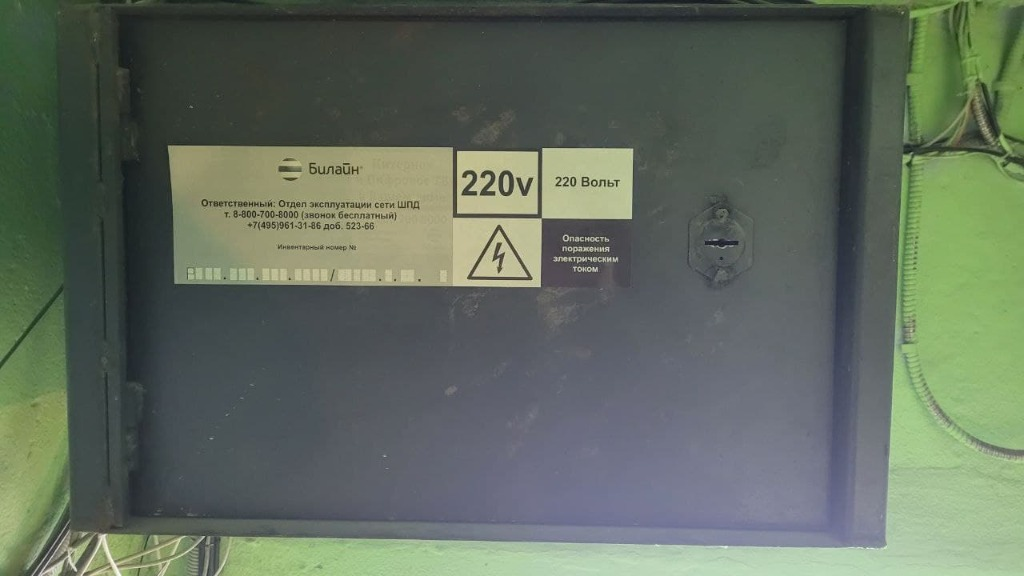e2-6u: (44, 1, 917, 549)
